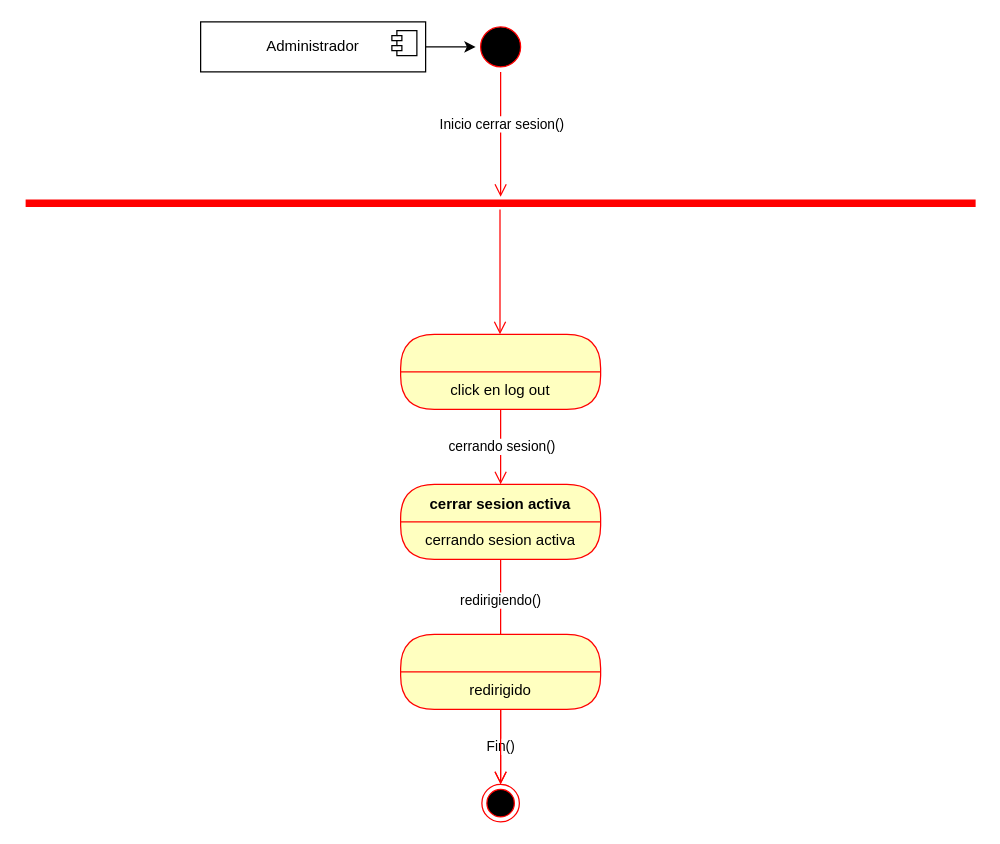
Some shapes in this 1000 by 844 pixel diagram are drawn without their labels. The box of each missing label's shape, as (x1, y1, x2, y2) in pixels:
click cerrar sesion: (399, 333, 601, 409)
redirigir index: (399, 633, 601, 709)
